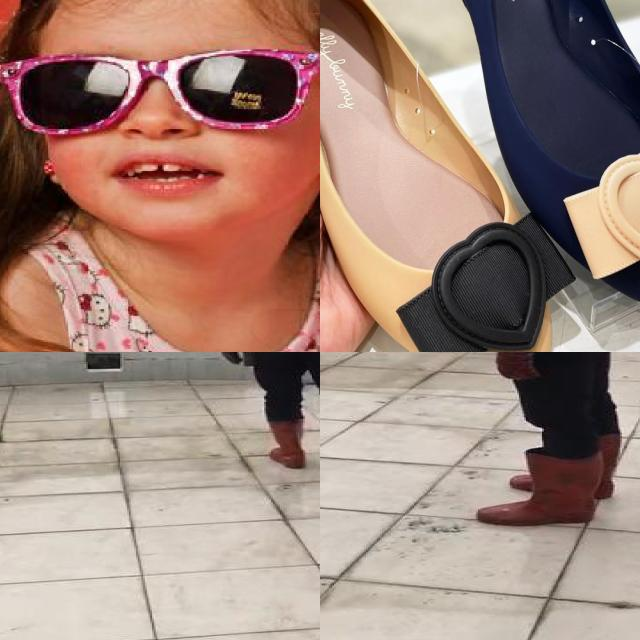Sandals: (320, 0, 586, 352), (397, 0, 640, 316)
boots: (478, 453, 597, 525), (512, 431, 620, 500), (262, 418, 308, 468)
face_nomask: (14, 46, 306, 220)
glasses: (0, 37, 320, 126)
hand_glove: (494, 352, 540, 382), (218, 352, 250, 365)
person: (0, 0, 320, 352), (459, 352, 640, 536), (212, 352, 320, 486)
